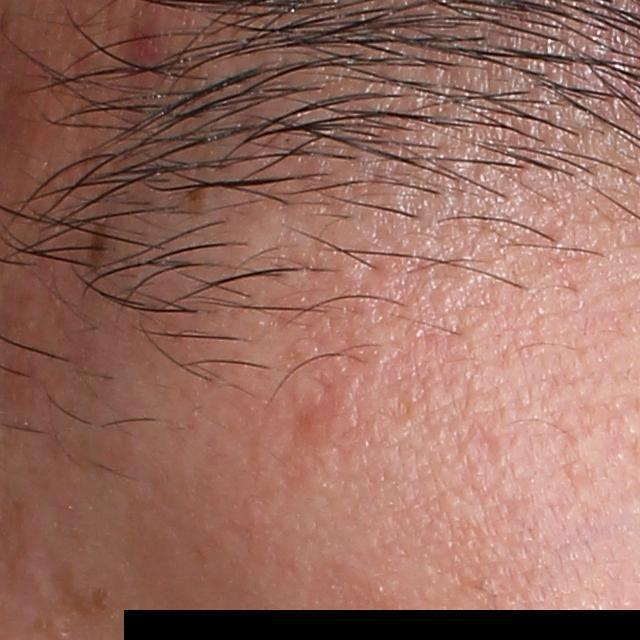nevus: (88, 218, 109, 272)
